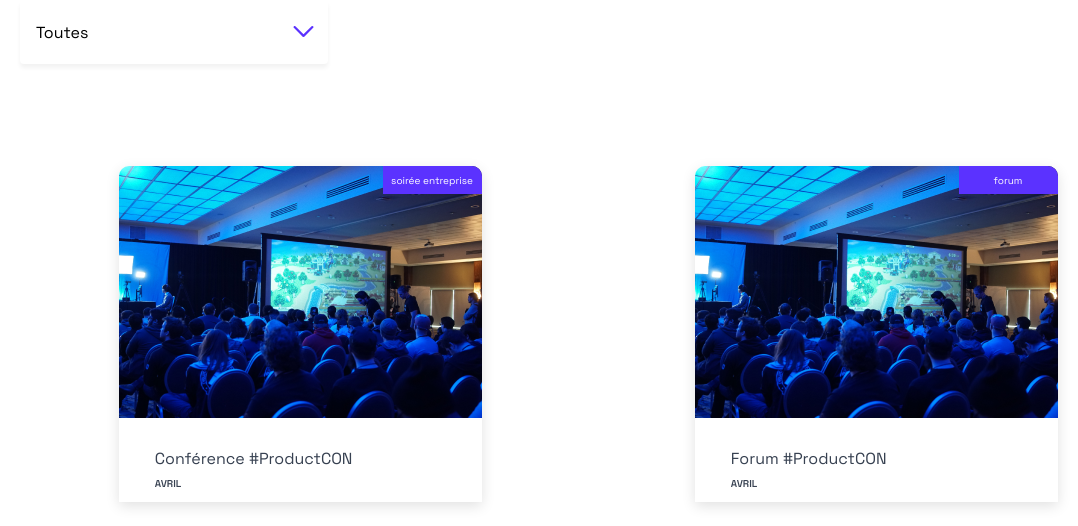
Test case: When Events is created › and we select a category › a filtered list is displayed
The image size is (1078, 526).
Expected: the text "Forum #productCON" is shown, [731,448,886,469]
Click the button with test id "collapse-button-testid".
click(304, 32)  # box [287,16,320,48]
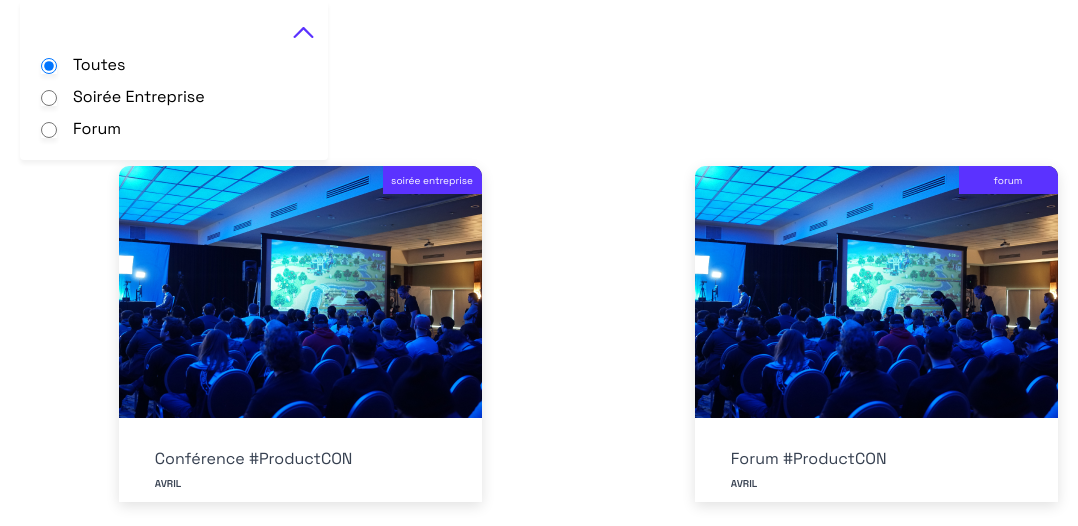
Click the list item "soirée entreprise".
click(123, 96)  # box [41,86,205,107]
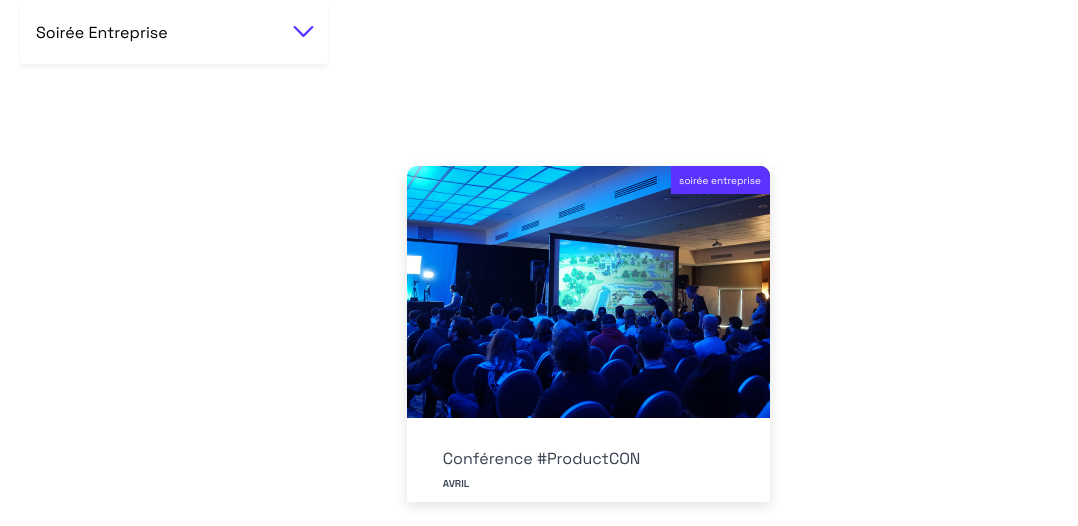
Expected: the text "Conférence #productCON" is shown, [443,448,640,469]
Expected: the text "Forum #productCON" is gone
